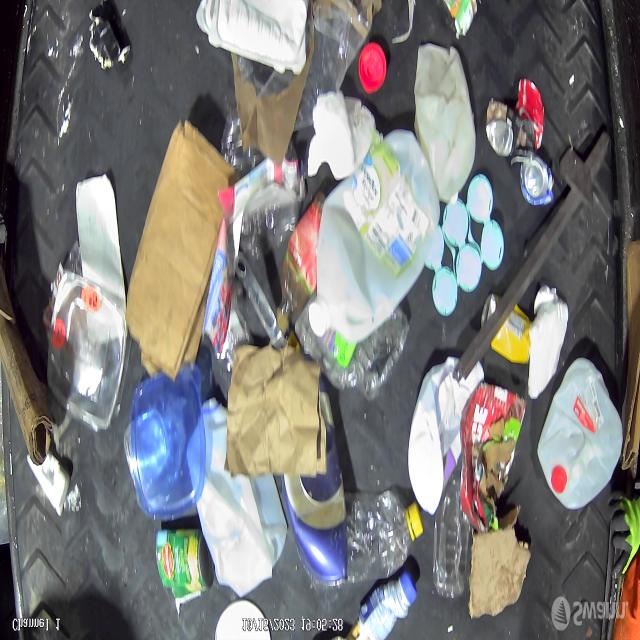can: (154, 526, 215, 604), (480, 292, 533, 364), (88, 2, 132, 66), (516, 148, 555, 208), (484, 96, 513, 159)
milk_jug: (308, 128, 442, 338), (188, 396, 289, 599), (537, 355, 625, 512), (407, 352, 484, 518), (413, 43, 478, 203)
non_white_jug: (281, 376, 350, 586)
plastic_bottle: (132, 368, 205, 519), (347, 488, 426, 587), (434, 474, 471, 602)
